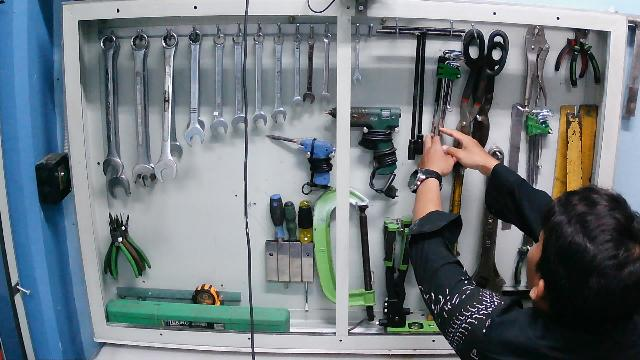kunci_l: (427, 46, 468, 152)
